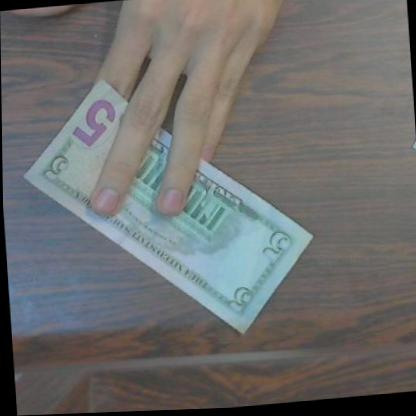five-back: (12, 57, 322, 358)
